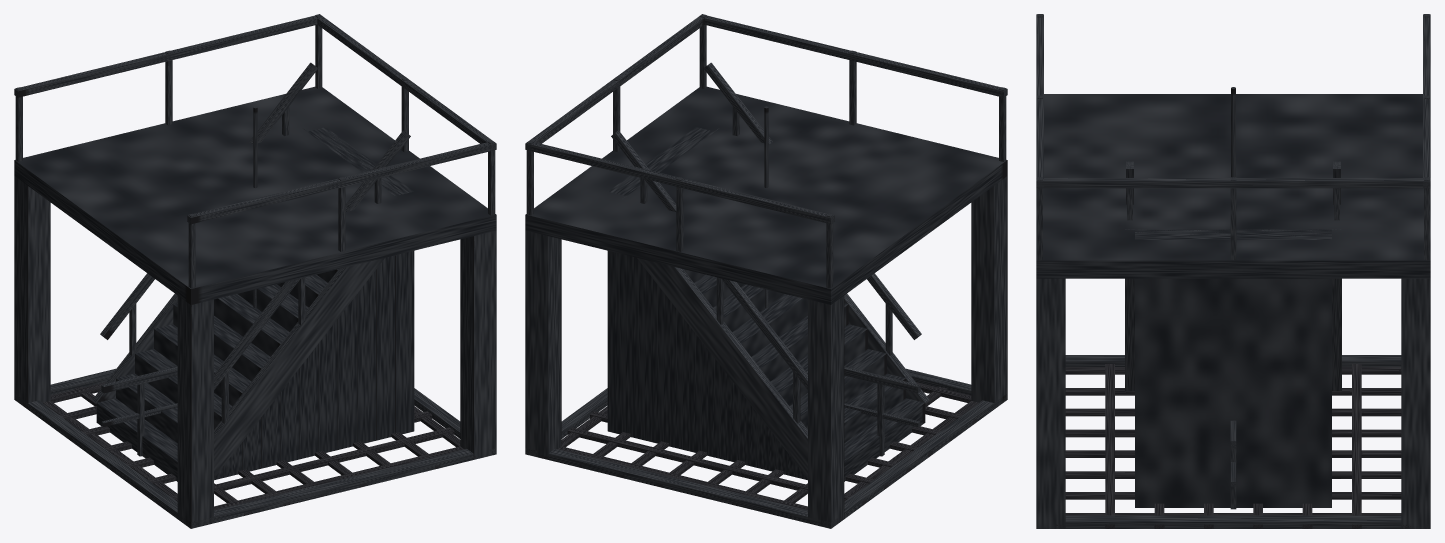
File: kitH.glb
The picture shows the model from 3 angles, left to right: view 1: azimuth 30°, elevation 25°; view 2: azimuth 150°, elevation 25°; view 3: azimuth 270°, elevation 25°; orthographic projection. The views are drawn at different scales.
Parts seen in each view (by area): view 1: stair_landing, stair_flight, floor_plate, handrail; view 2: stair_landing, stair_flight, floor_plate, handrail; view 3: stair_landing, stair_flight, floor_plate, handrail.
Boxes of the visible parts, box(x1,y1,x2,y2) form: stair_landing: box(14, 14, 496, 528); stair_flight: box(92, 62, 414, 481); floor_plate: box(14, 368, 496, 528); handrail: box(101, 366, 177, 456); stair_landing: box(525, 14, 1007, 528); stair_flight: box(607, 62, 929, 481); floor_plate: box(525, 368, 1007, 528); handrail: box(844, 366, 920, 456); stair_landing: box(1036, 14, 1430, 528); stair_flight: box(1125, 161, 1341, 507); floor_plate: box(1036, 355, 1430, 528); handrail: box(1230, 420, 1236, 509).
Size of the model in its own units: 4 by 4 by 4.
2 materials, 1 textured.
